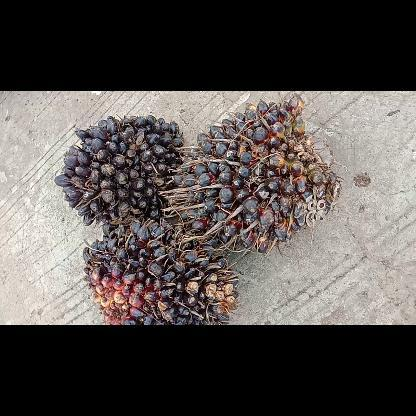TBS mentah: (169, 91, 344, 255), (51, 112, 188, 236), (80, 220, 242, 324)
